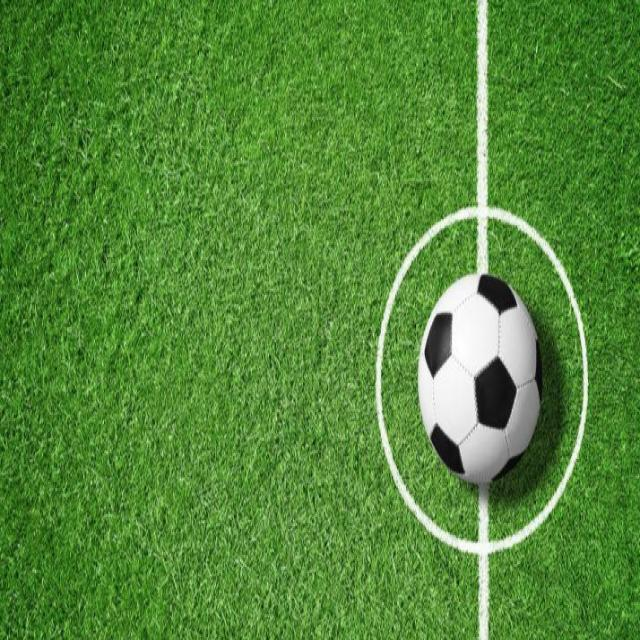football: (422, 263, 550, 493)
